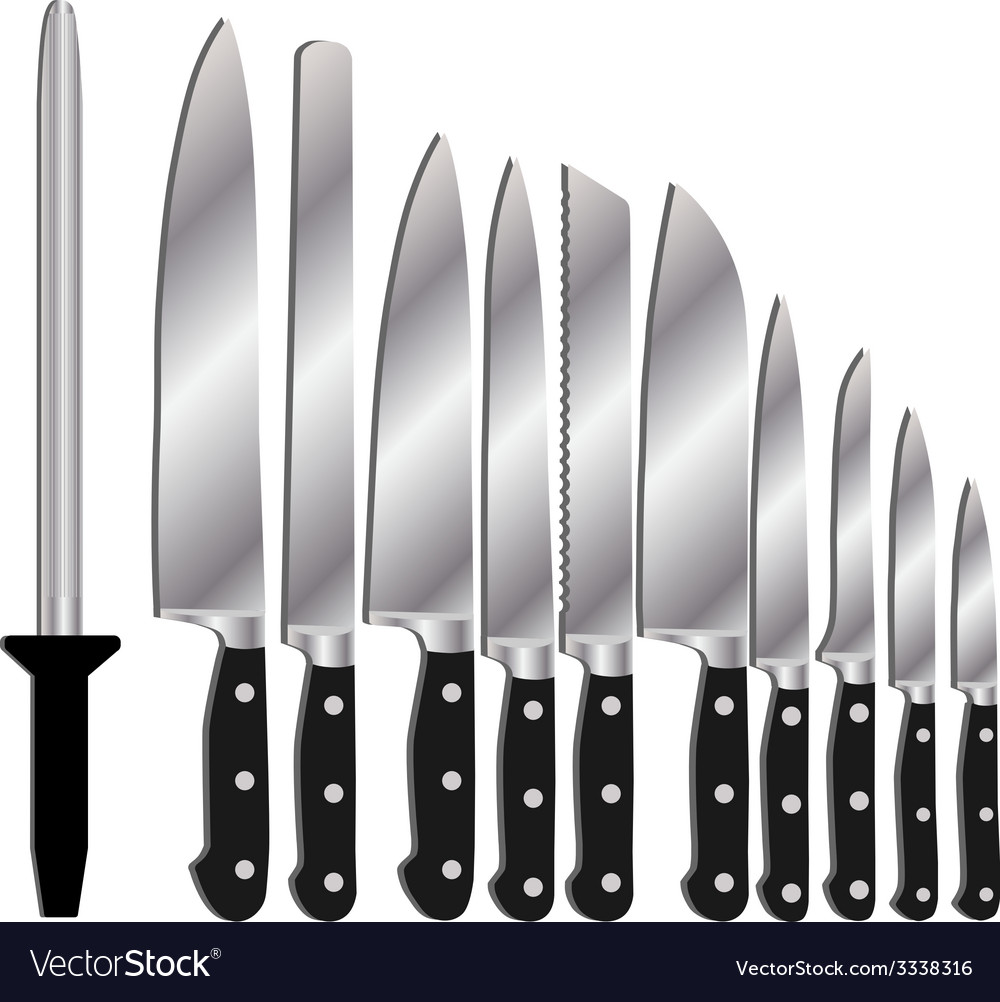knife: (152, 20, 273, 923), (368, 134, 476, 922), (480, 155, 553, 919), (753, 294, 814, 923), (826, 352, 877, 920), (891, 410, 941, 920), (955, 487, 1000, 920)
